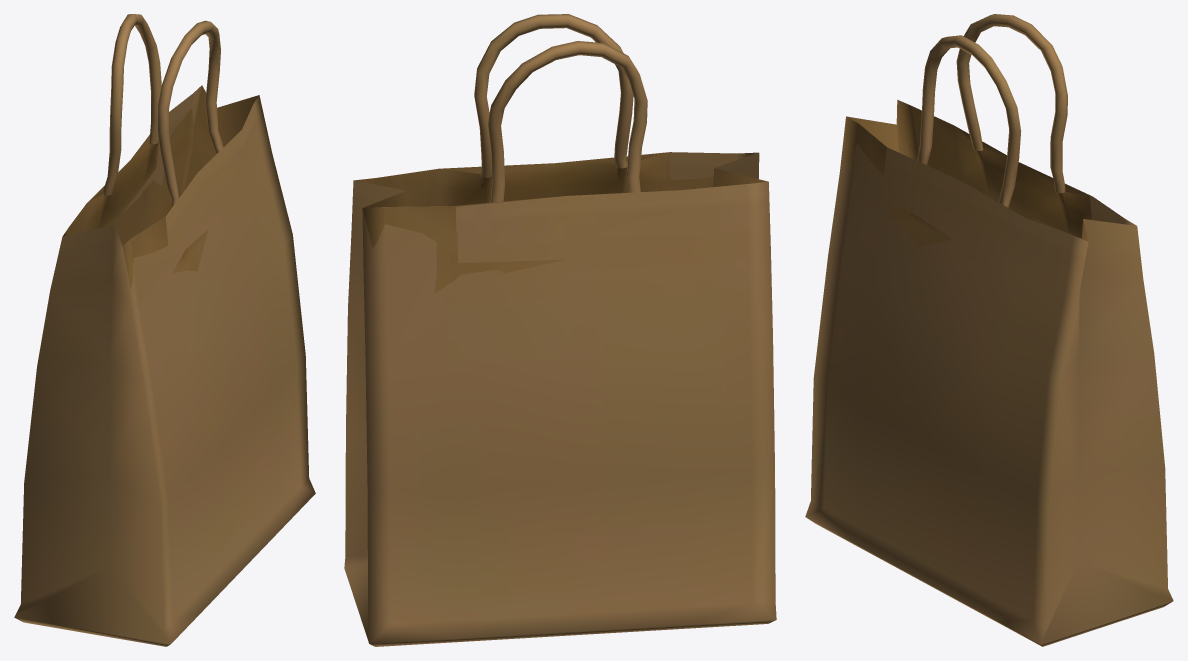
3 views of the same model, side by side, from view 1: azimuth 30°, elevation 25°; view 2: azimuth 150°, elevation 25°; view 3: azimuth 270°, elevation 25° (orthographic). The views are drawn at different scales.
Size of the model in its own units: 5.69 by 8.28 by 5.16.
Materials: 2 (2 with a texture image).
